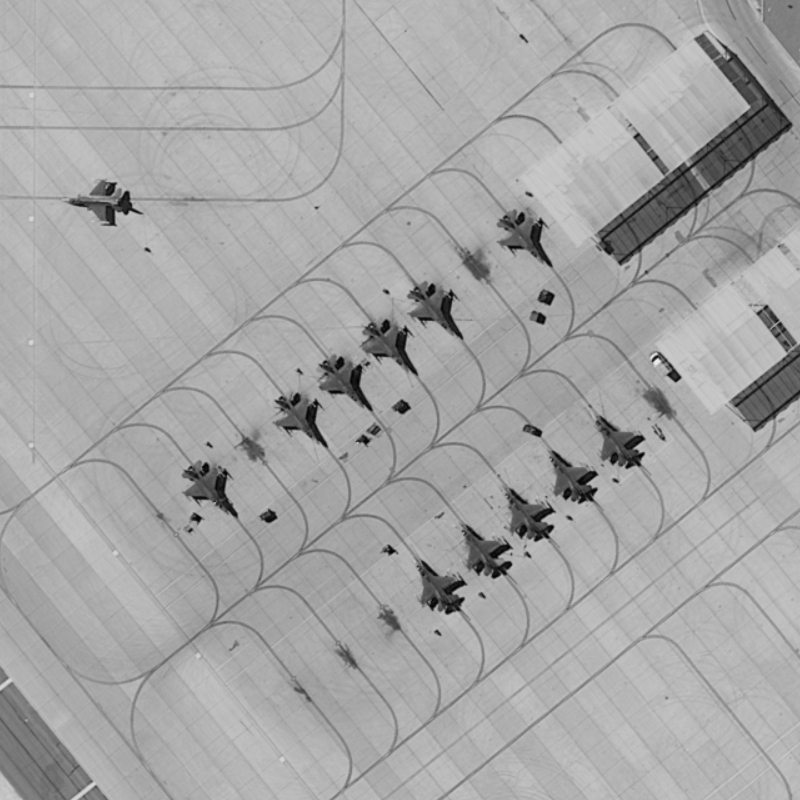A5: (493, 472, 563, 552), (536, 433, 604, 511), (398, 271, 470, 344), (581, 397, 648, 475), (174, 450, 243, 523), (487, 199, 558, 268), (61, 172, 142, 232), (450, 509, 515, 583), (408, 543, 467, 622), (354, 314, 424, 380), (310, 345, 372, 415), (269, 381, 326, 451)
